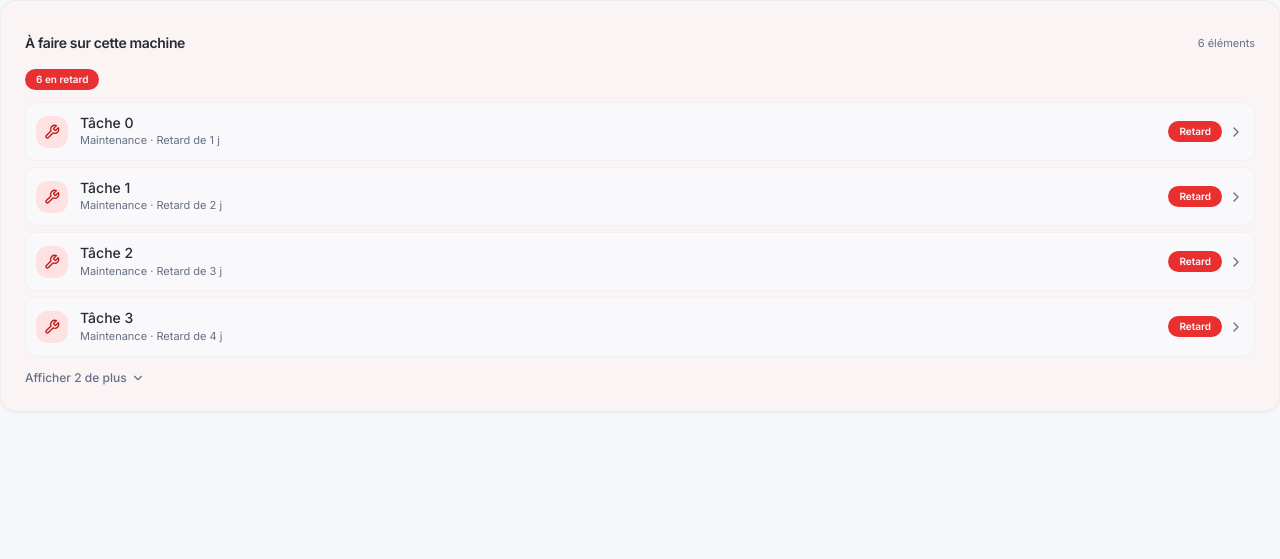
Test: PriorityActionCard — accessibilité › le bouton "Afficher de plus" expose aria-controls/aria-expanded et un libellé lisible
This screenshot has width=1280, height=559.
Step 1. Click the button with aria-label "Afficher les 2 éléments supplémentaires" → (85, 378), box [25,368,145,386]
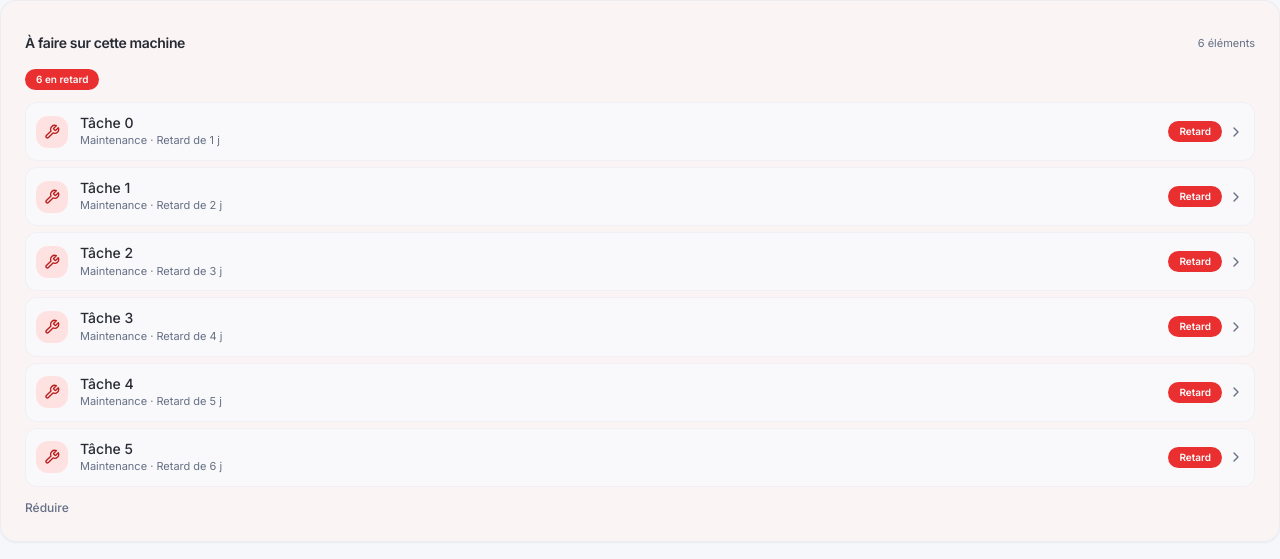
Result: the button with aria-label "Réduire la liste des éléments" is expanded at [25,499,69,517]
